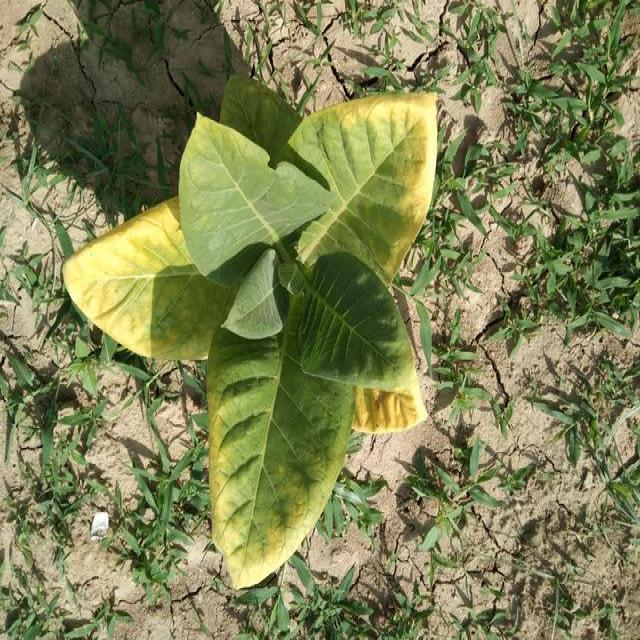crop: (64, 83, 472, 589)
